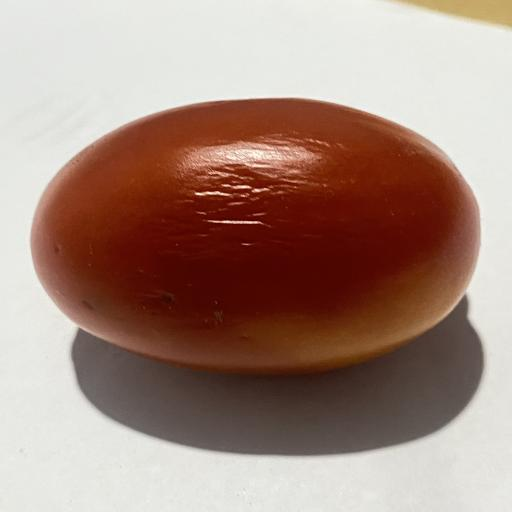spoiled: (32, 98, 479, 373)
